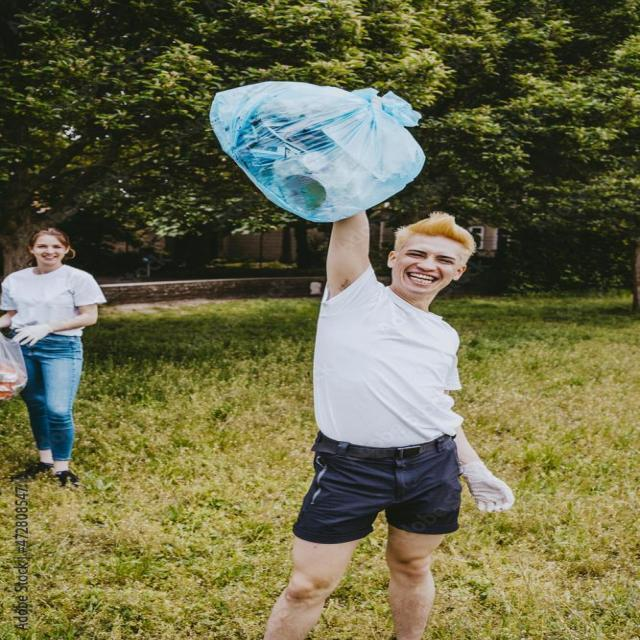Garbage_Bag: (203, 76, 442, 225)
